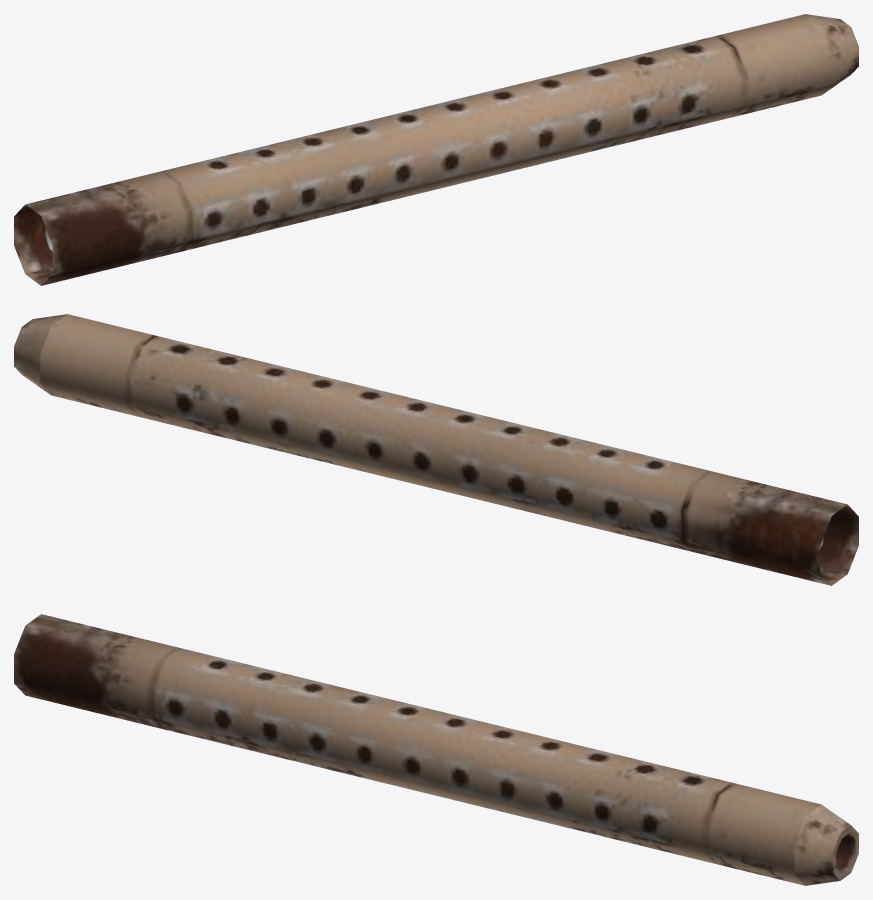
File: Weapon.gltf
3 renders of one model, top to bottom at view 1: azimuth 30°, elevation 25°; view 2: azimuth 150°, elevation 25°; view 3: azimuth 330°, elevation 25°, orthographic.
Visible parts, largest first — view 1: defaultMaterial.663; view 2: defaultMaterial.663; view 3: defaultMaterial.663.
Boxes of the visible parts, x1,y1,x2,y2 form: defaultMaterial.663: (14,14,858,285); defaultMaterial.663: (14,314,858,585); defaultMaterial.663: (14,614,858,885).
Size of the model in its own units: 0.2891 by 0.0237 by 0.0237.
Materials: 2 (2 with a texture image).
